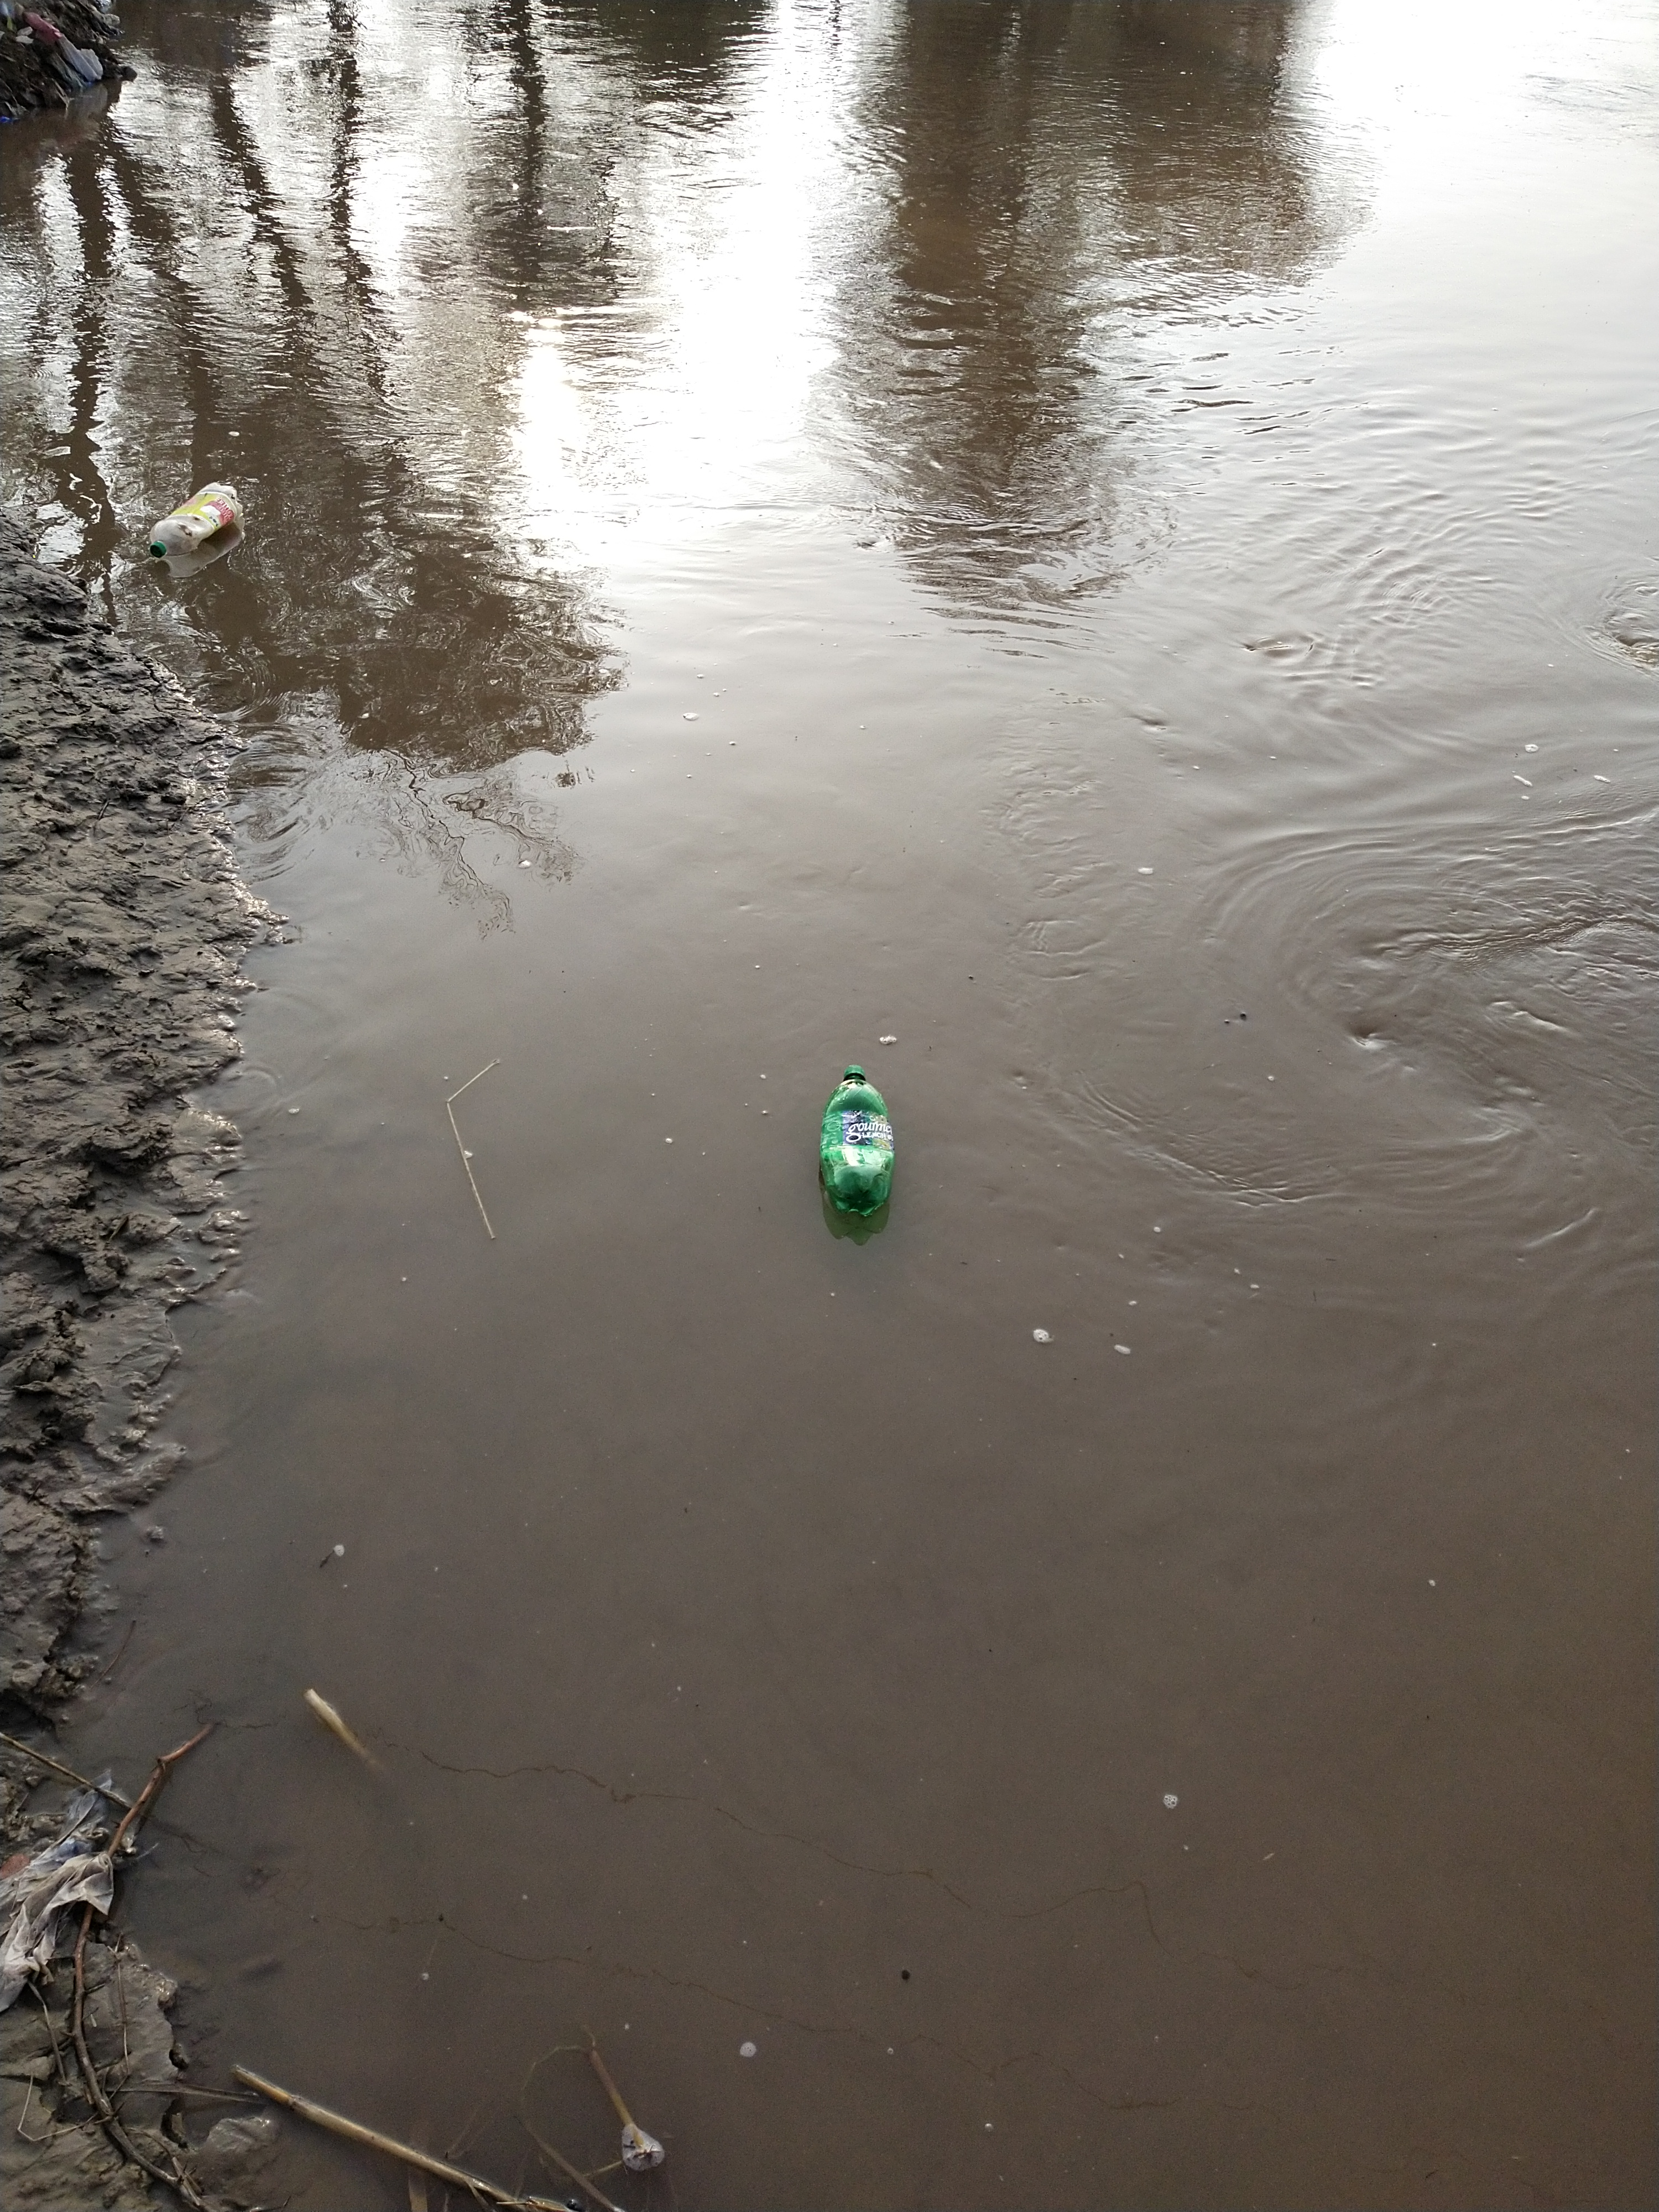Plastic Bottle: (819, 1064, 894, 1219), (148, 482, 242, 557)
